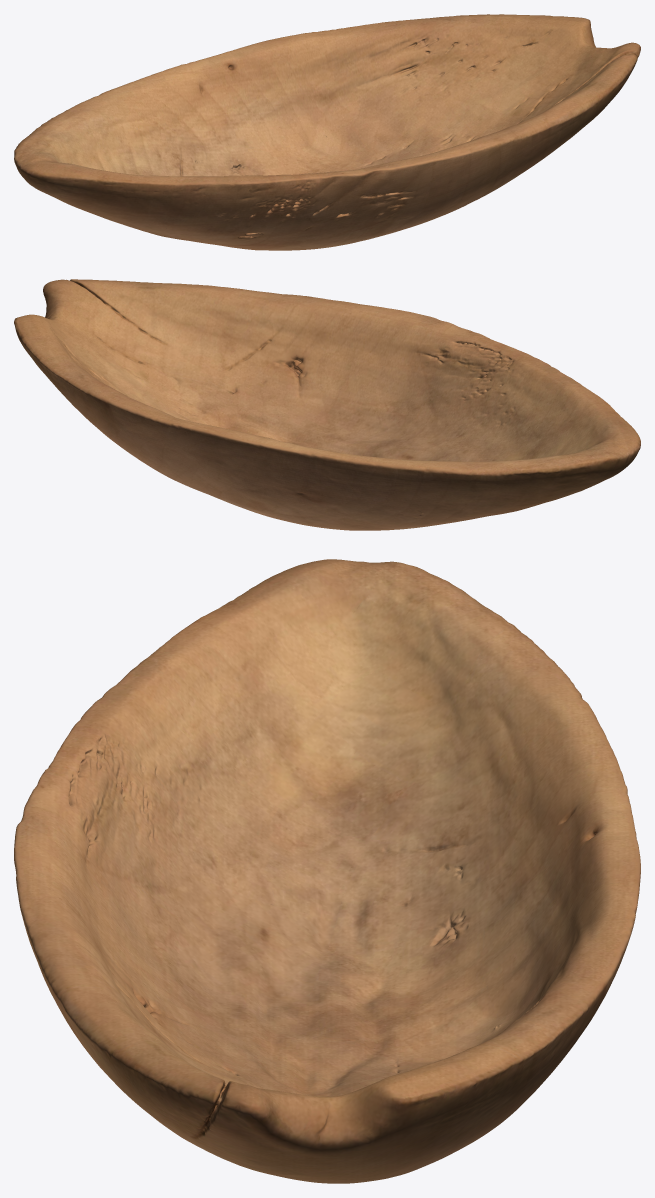
Rendered from canak.glb.
The picture shows the model from 3 angles, top to bottom: view 1: azimuth 30°, elevation 25°; view 2: azimuth 150°, elevation 25°; view 3: azimuth 270°, elevation 25°; orthographic projection. The views are drawn at different scales.
Size of the model in its own units: 1.9 by 0.4244 by 0.923.
Materials: 1 (1 with a texture image).
